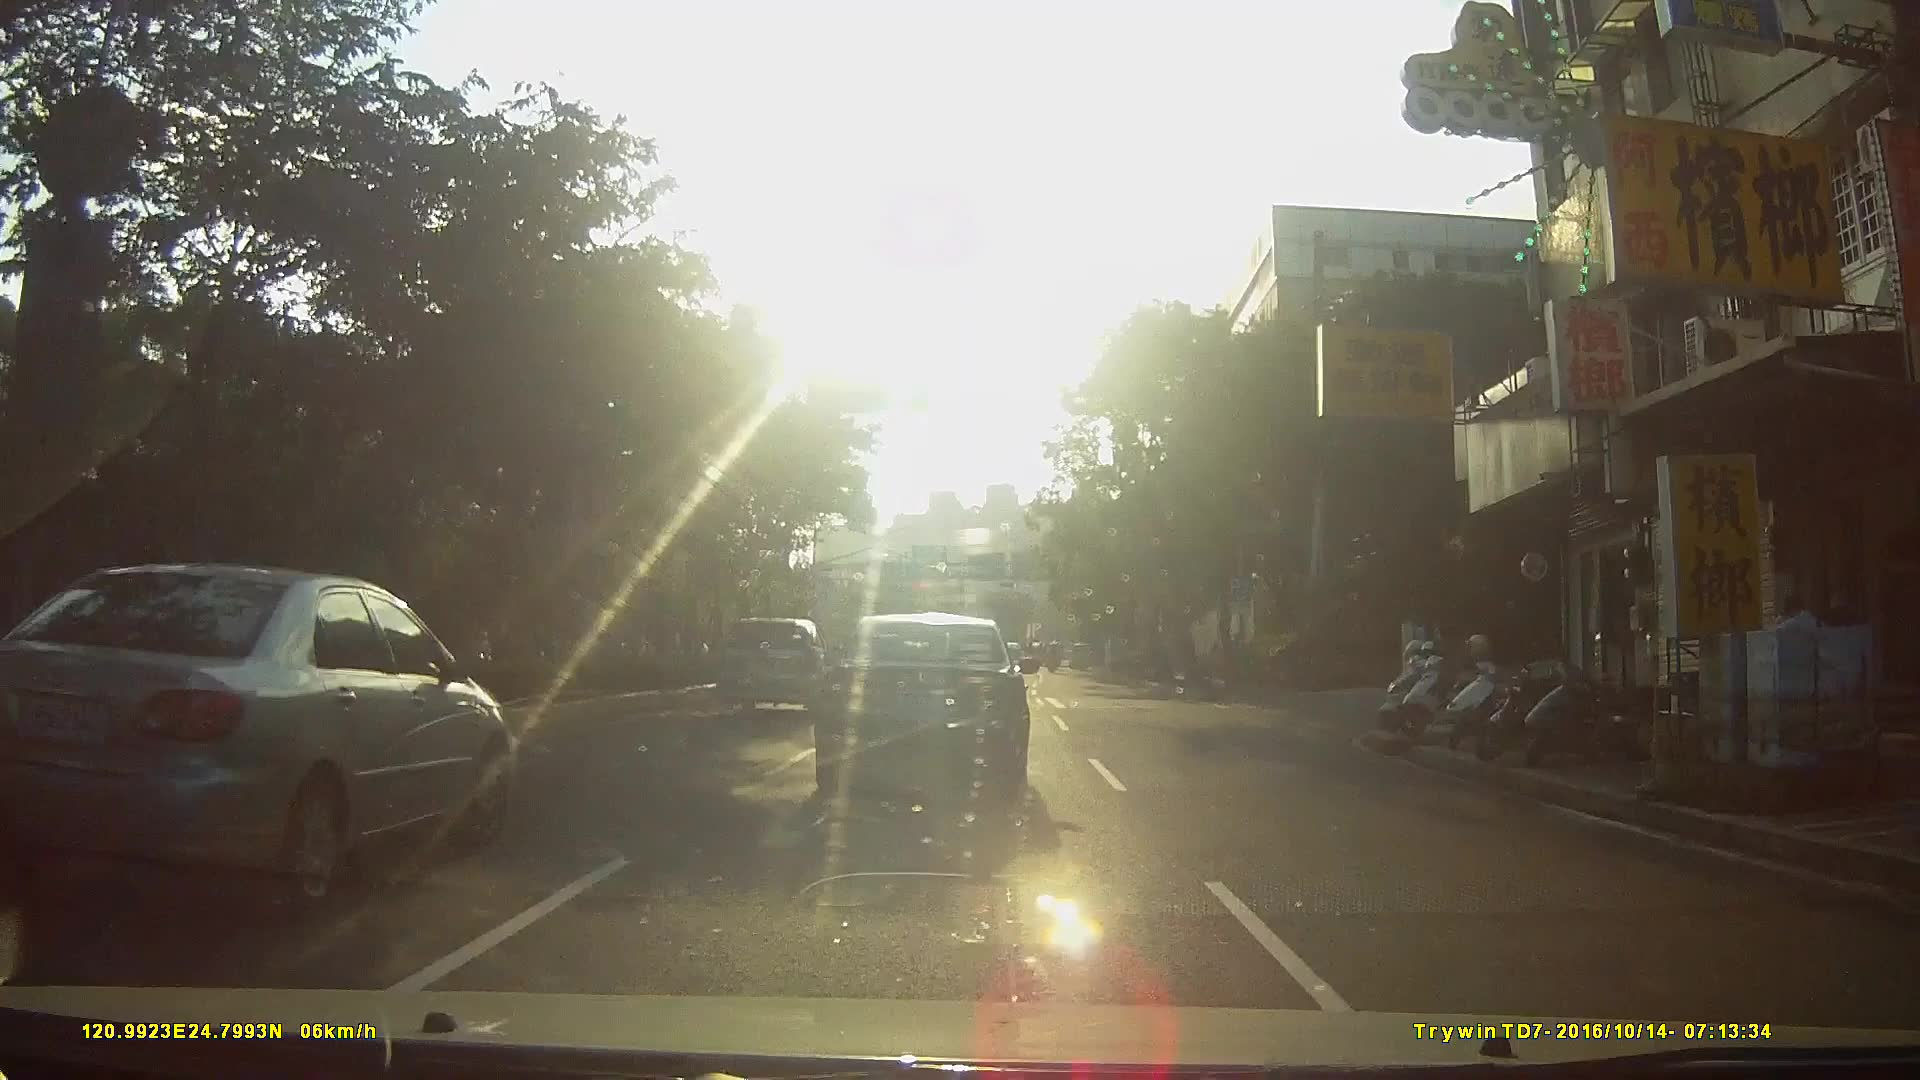pedestrian: (1771, 587, 1836, 746)
vehicle: (1, 564, 535, 902), (820, 609, 1048, 808), (720, 614, 836, 712), (1066, 639, 1101, 670)
